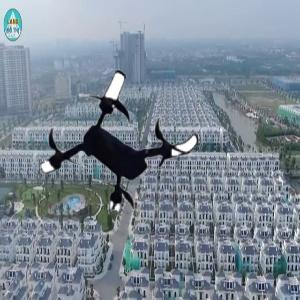drone: (39, 58, 203, 222)
